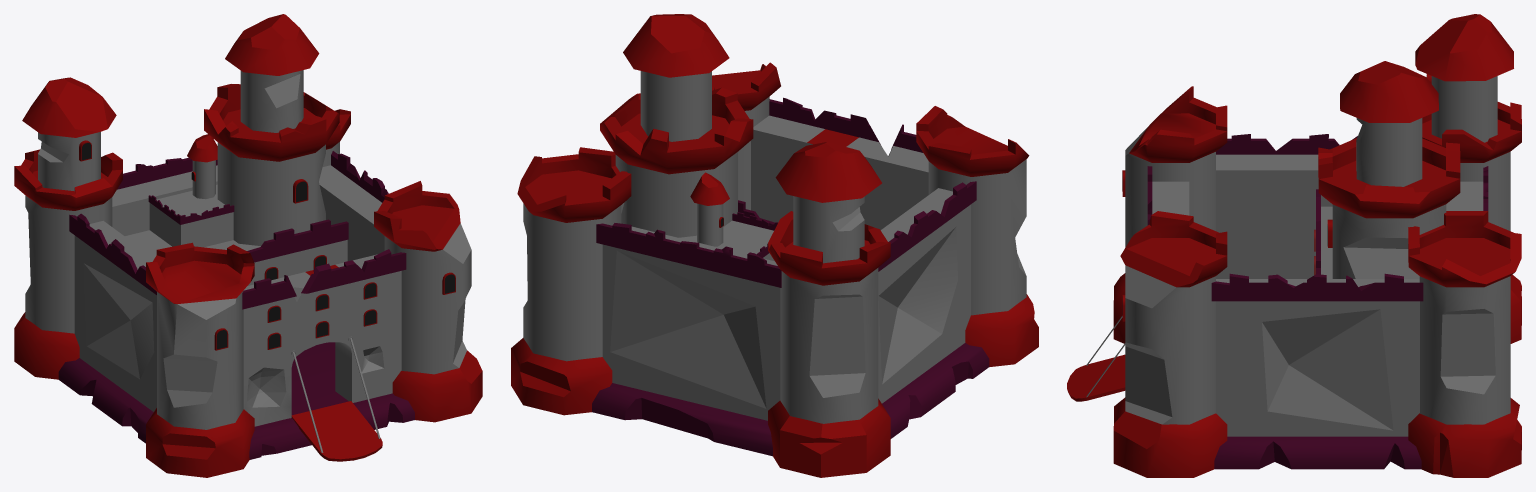
The model's file is CS_Evil_Castle_Stage02.fbx.
The picture shows the model from 3 angles, left to right: view 1: azimuth 30°, elevation 25°; view 2: azimuth 150°, elevation 25°; view 3: azimuth 270°, elevation 25°; orthographic projection. The views are drawn at different scales.
Visible parts, largest first — view 1: Evil_Castle_Stage_2; view 2: Evil_Castle_Stage_2; view 3: Evil_Castle_Stage_2.
Part boxes in pixels (left/top/right/bottom): Evil_Castle_Stage_2: left=14, top=14, right=482, bottom=477; Evil_Castle_Stage_2: left=511, top=14, right=1038, bottom=477; Evil_Castle_Stage_2: left=1067, top=14, right=1521, bottom=477.
Size of the model in its own units: 832 by 806 by 927.
